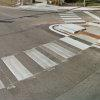Crosswalk: (6, 32, 99, 100)
